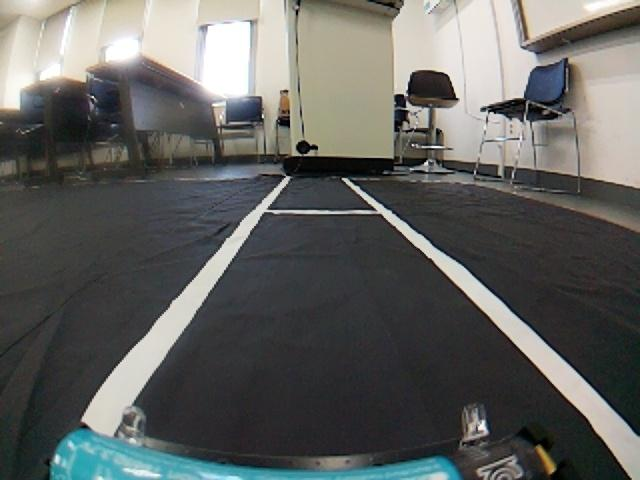straight: (76, 212, 640, 469)
